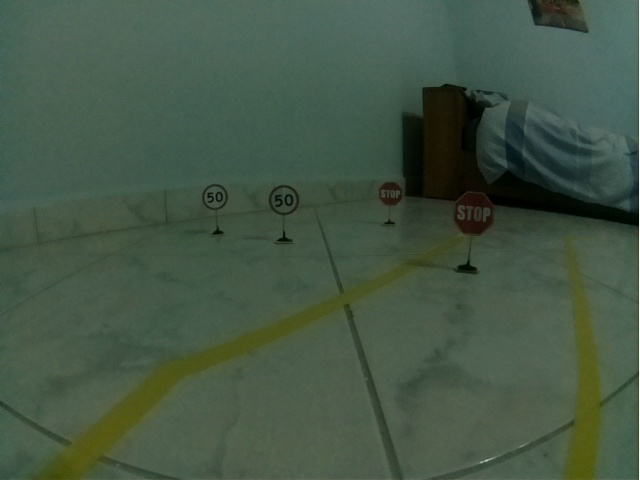Speed Limit 50: (269, 185, 299, 215), (202, 184, 228, 210)
Stop: (454, 192, 494, 236), (379, 182, 402, 205)
